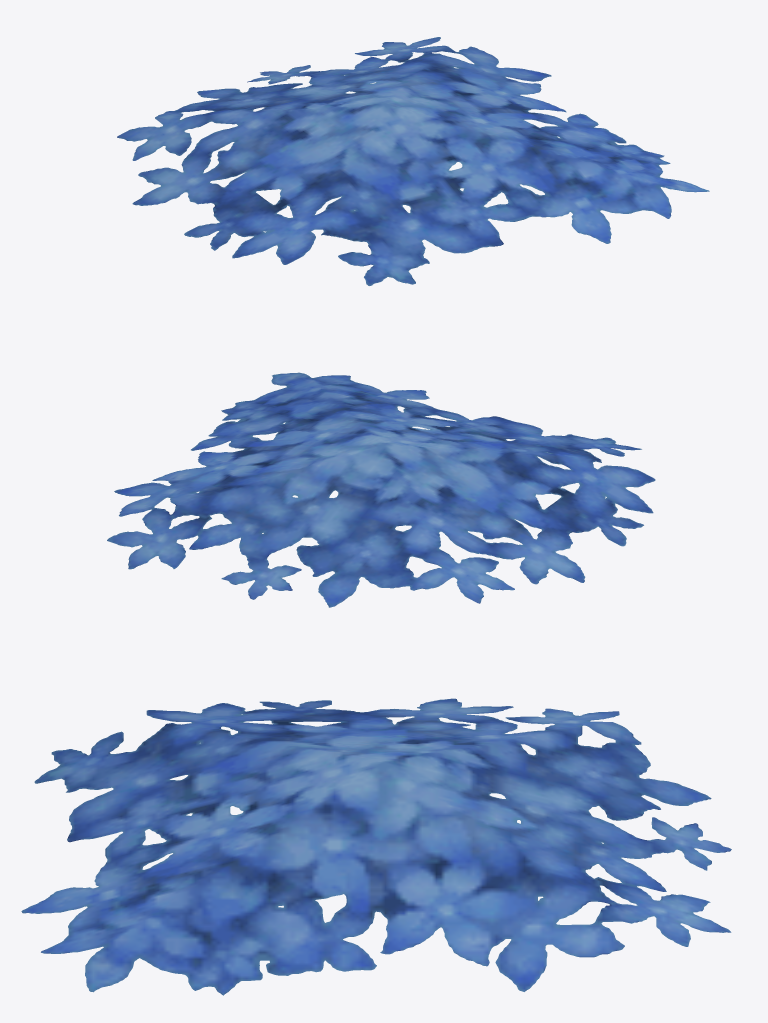
File: cs_chengshi_xuyuanshuye_001.FBX
The picture shows the model from 3 angles, top to bottom: view 1: azimuth 30°, elevation 25°; view 2: azimuth 150°, elevation 25°; view 3: azimuth 270°, elevation 25°; orthographic projection. The views are drawn at different scales.
Visible parts, largest first — view 1: cs_chengshi_xuyuanshuye_001; view 2: cs_chengshi_xuyuanshuye_001; view 3: cs_chengshi_xuyuanshuye_001.
Part boxes in pixels (x1,y1,x2,y2): cs_chengshi_xuyuanshuye_001: (117,37,709,285); cs_chengshi_xuyuanshuye_001: (107,372,655,607); cs_chengshi_xuyuanshuye_001: (21,698,731,995).
Size of the model in its own units: 74.95 by 74.95 by 10.
